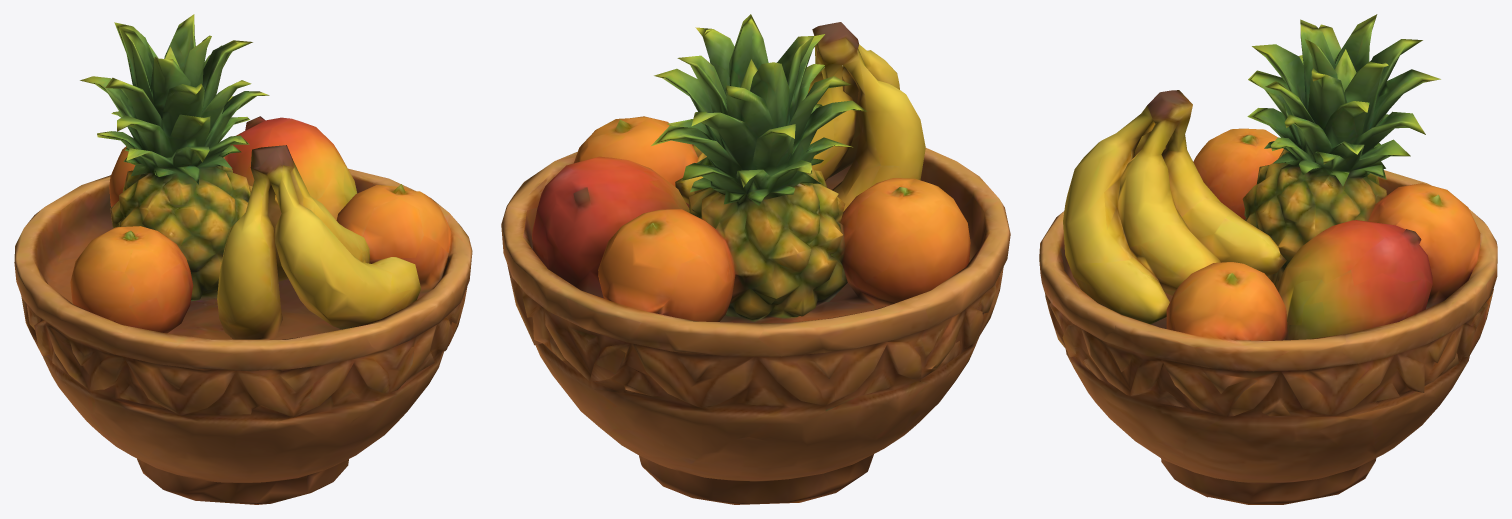
File: SM_Kitchen_FruitBowl.glb
3 views of the same model, side by side, from view 1: azimuth 30°, elevation 25°; view 2: azimuth 150°, elevation 25°; view 3: azimuth 270°, elevation 25° (orthographic). The views are drawn at different scales.
Visible parts, largest first — view 1: tripo_node_10e6b85b-471b-4f2d-897d-d16143e6f4fd; view 2: tripo_node_10e6b85b-471b-4f2d-897d-d16143e6f4fd; view 3: tripo_node_10e6b85b-471b-4f2d-897d-d16143e6f4fd.
Part boxes in pixels (left/top/right/bottom): tripo_node_10e6b85b-471b-4f2d-897d-d16143e6f4fd: left=14, top=14, right=472, bottom=504; tripo_node_10e6b85b-471b-4f2d-897d-d16143e6f4fd: left=501, top=14, right=1010, bottom=504; tripo_node_10e6b85b-471b-4f2d-897d-d16143e6f4fd: left=1039, top=14, right=1497, bottom=504.
Bounding box in the file's own units: 0.9924 × 1 × 0.9929.
Materials: 1 (1 with a texture image).
